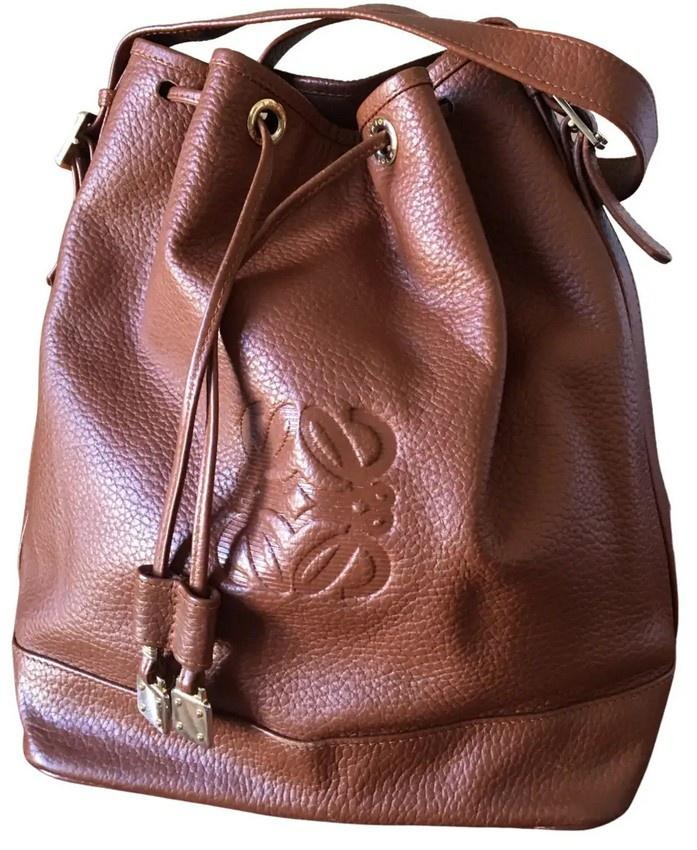LOEWE: (181, 388, 410, 616)
